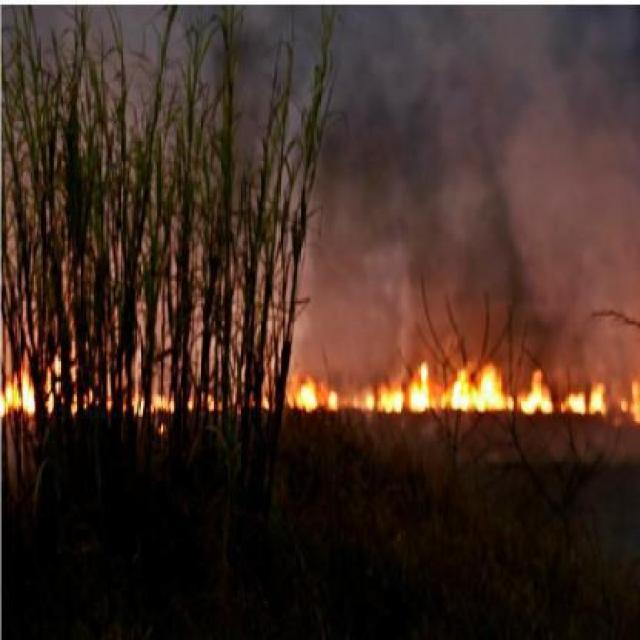Fire: (293, 364, 607, 414), (2, 358, 60, 416), (620, 377, 638, 415)
